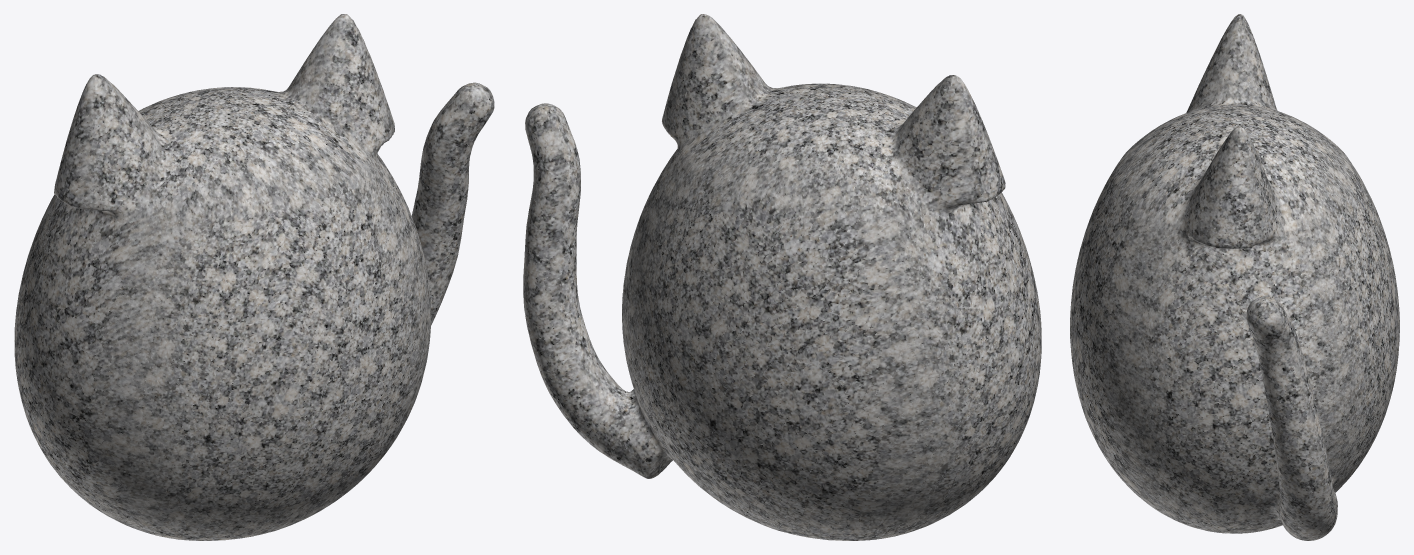
Rendered from cat-adult-granite.glb.
3 views of the same model, side by side, from view 1: azimuth 30°, elevation 25°; view 2: azimuth 150°, elevation 25°; view 3: azimuth 270°, elevation 25° (orthographic). The views are drawn at different scales.
Parts seen in each view (by area): view 1: cat-adult-granite; view 2: cat-adult-granite; view 3: cat-adult-granite.
Boxes of the visible parts, bbox=[...] form: cat-adult-granite: bbox=[14, 14, 494, 540]; cat-adult-granite: bbox=[523, 14, 1041, 540]; cat-adult-granite: bbox=[1070, 14, 1399, 540].
Bounding box in the file's own units: 0.04 × 0.0369 × 0.0261.
1 material, 1 textured.
